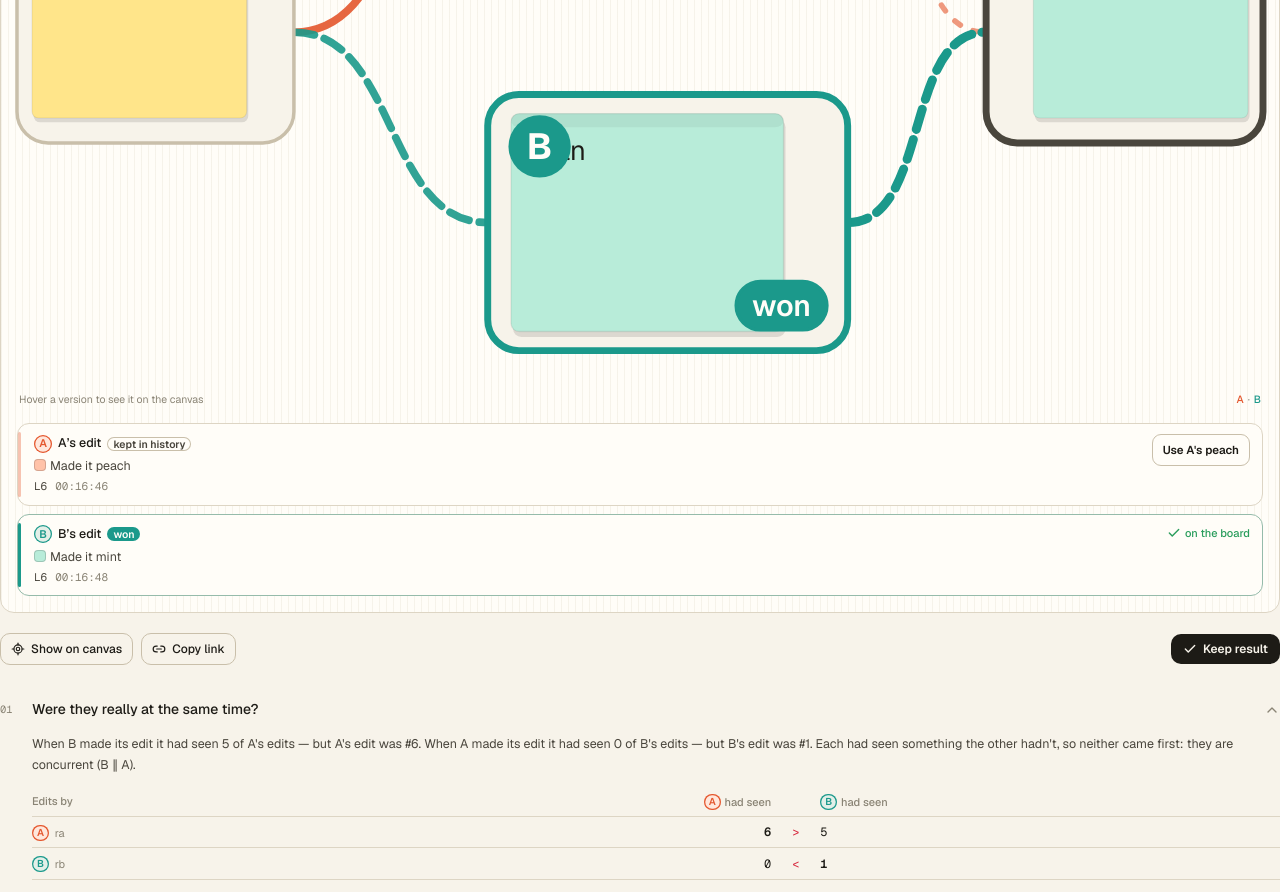
Test: why panel smoke › adopts the losing value and shows the knot as resolved
(page scrolled)
Click the button "Use A's peach": (1201, 450) x1=1152 y1=434 x2=1250 y2=466
(page scrolled)
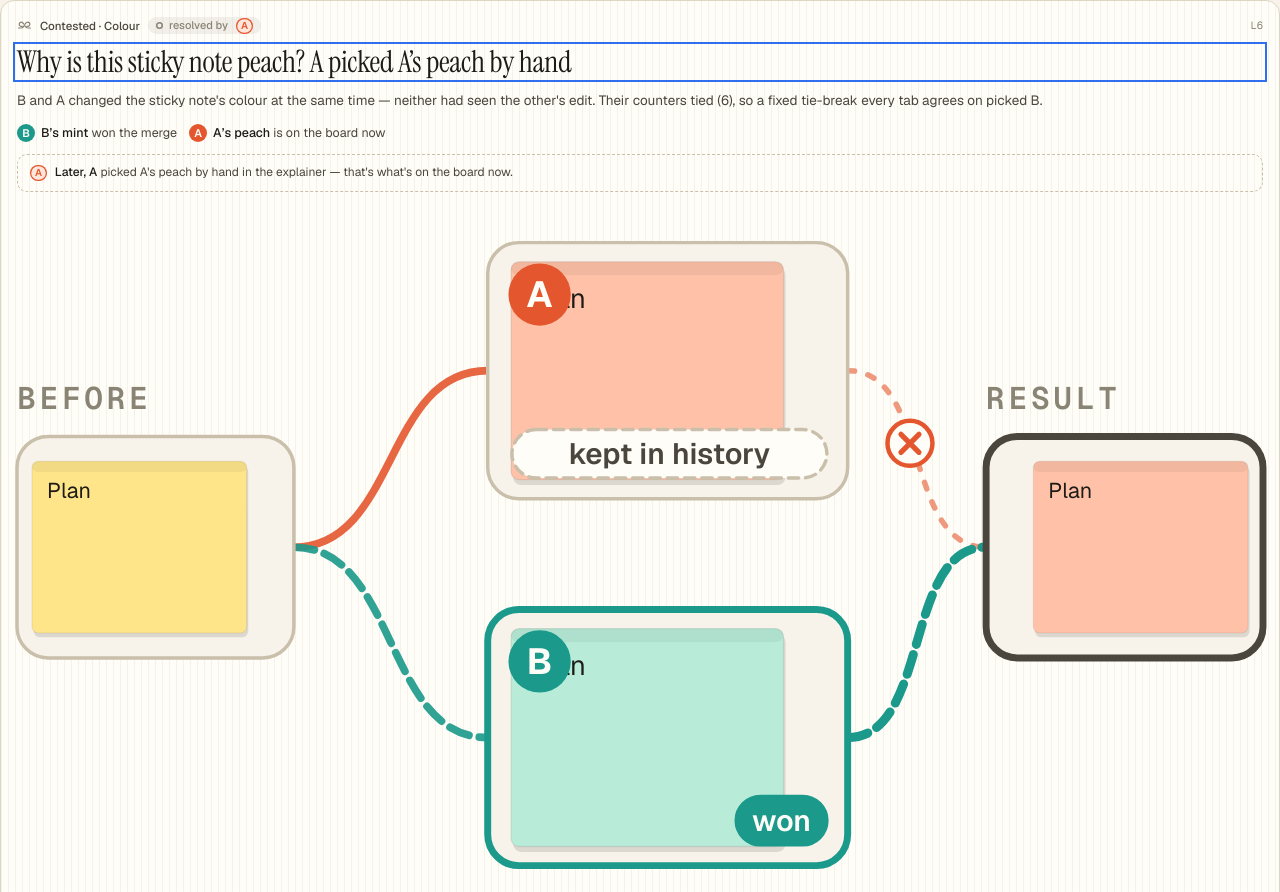
Expected: the text "Later," is shown, x1=55 y1=164 x2=89 y2=180
Expected: the header shows "won the merge", x1=92 y1=124 x2=177 y2=141
